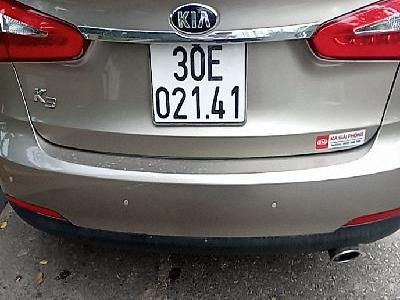car: (148, 39, 247, 130)
